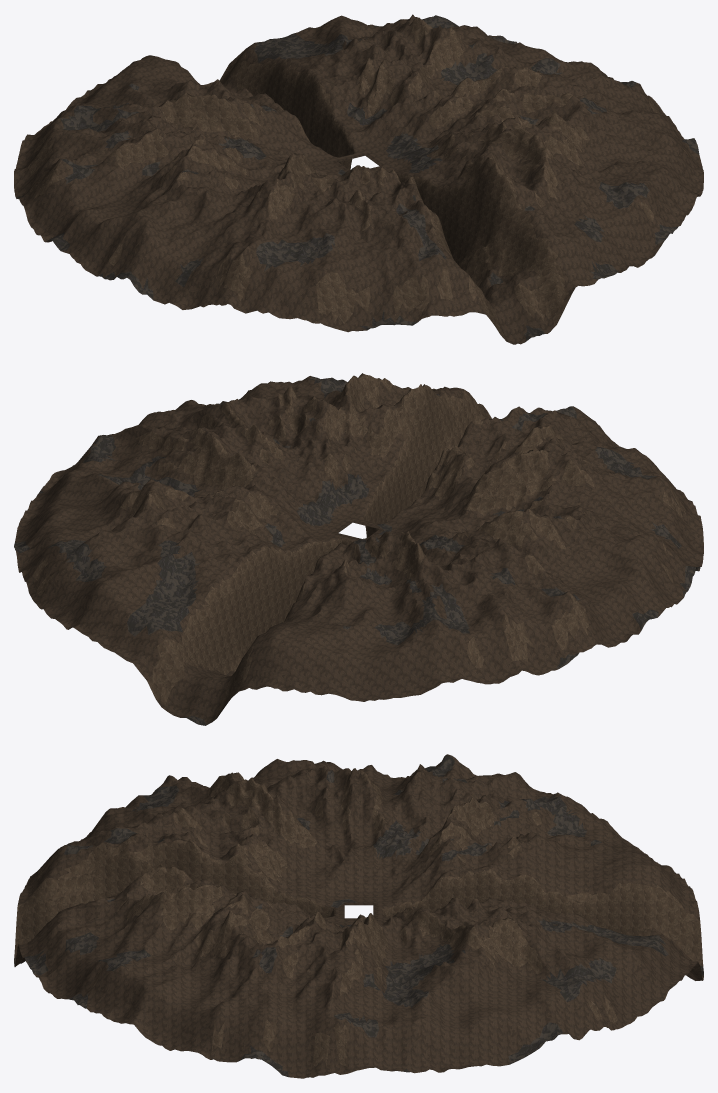
File: backdrop_near_rect_ascent_dead.glb
3 renders of one model, top to bottom at view 1: azimuth 30°, elevation 25°; view 2: azimuth 150°, elevation 25°; view 3: azimuth 270°, elevation 25°, orthographic.
Parts seen in each view (by area): view 1: near_land_S, near_land_W, near_land_E, near_land_N; view 2: near_land_N, near_land_W, near_land_E, near_land_S; view 3: near_land_E, near_land_S, near_land_N, near_land_W.
Part boxes in pixels (box(x1,y1,x2,y2)): near_land_S: box(269, 116, 691, 344); near_land_W: box(14, 93, 345, 313); near_land_E: box(364, 17, 703, 210); near_land_N: box(26, 14, 440, 170); near_land_N: box(26, 497, 449, 725); near_land_W: box(376, 447, 703, 684); near_land_E: box(14, 381, 358, 581); near_land_S: box(277, 373, 687, 537); near_land_E: box(114, 894, 601, 1078); near_land_S: box(14, 795, 345, 1021); near_land_N: box(376, 798, 703, 1030); near_land_W: box(139, 754, 601, 905).
Bounding box in the file's own units: 576 × 168 × 576.
3 materials, 3 textured.
